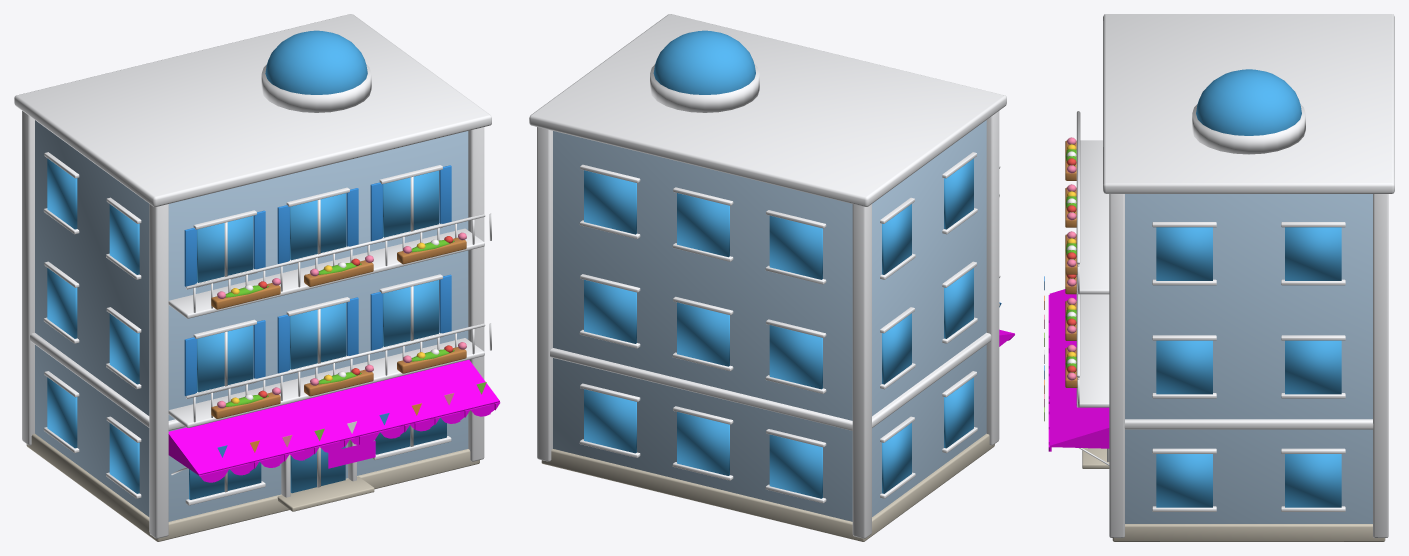
The model's file is shop_blue.glb.
The picture shows the model from 3 angles, left to right: view 1: azimuth 30°, elevation 25°; view 2: azimuth 150°, elevation 25°; view 3: azimuth 270°, elevation 25°; orthographic projection. The views are drawn at different scales.
Visible parts, largest first — view 1: shop_blue; view 2: shop_blue; view 3: shop_blue.
Part boxes in pixels (x1,y1,x2,y2): shop_blue: (14, 14, 500, 541); shop_blue: (529, 14, 1014, 541); shop_blue: (1044, 14, 1394, 541).
Bounding box in the file's own units: 10.7 × 12.17 × 9.26.
